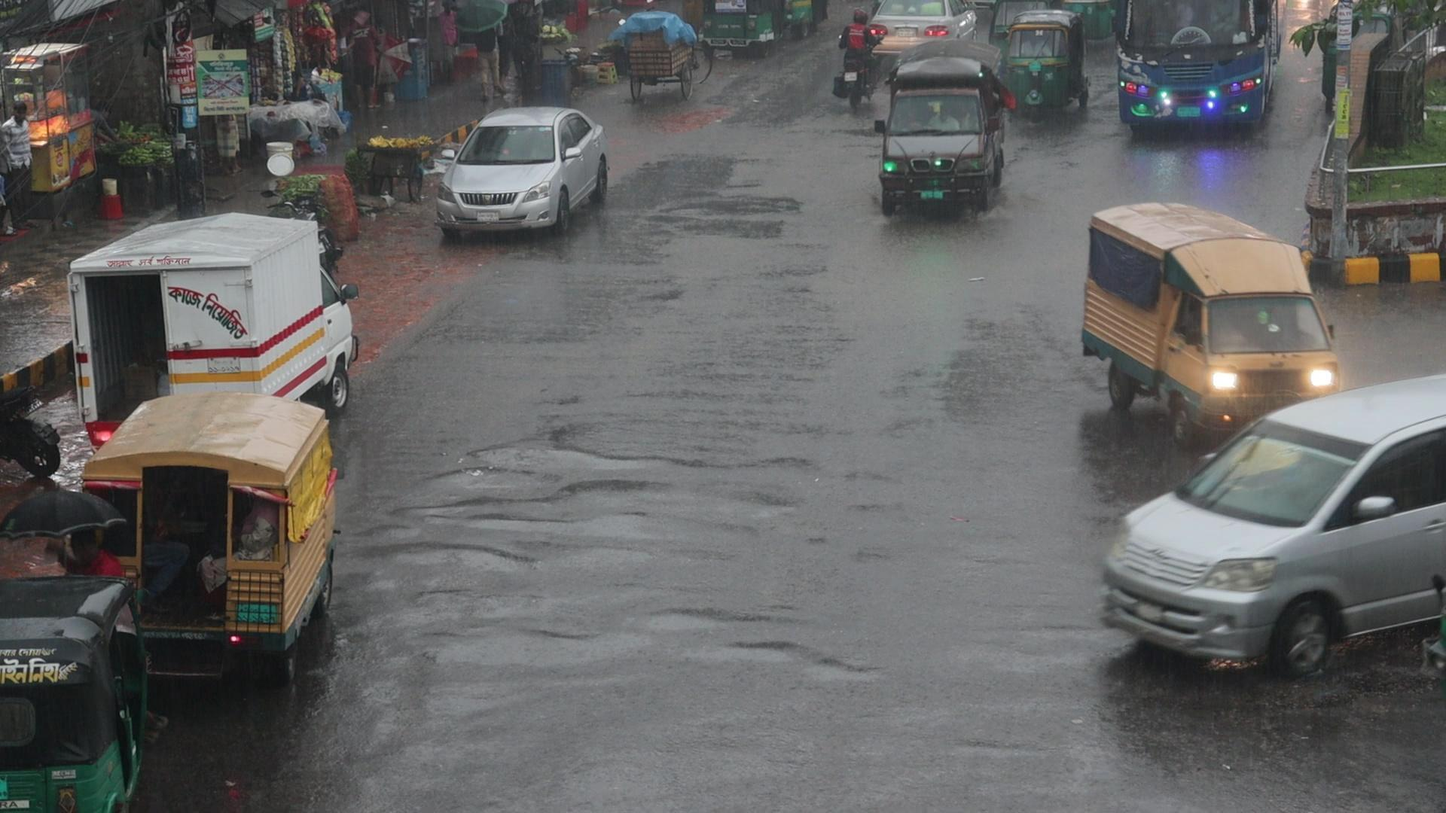Bike: (835, 8, 880, 109)
Car: (1098, 376, 1446, 675)
Truck: (73, 390, 337, 641), (1078, 198, 1341, 410), (873, 40, 1005, 218)
